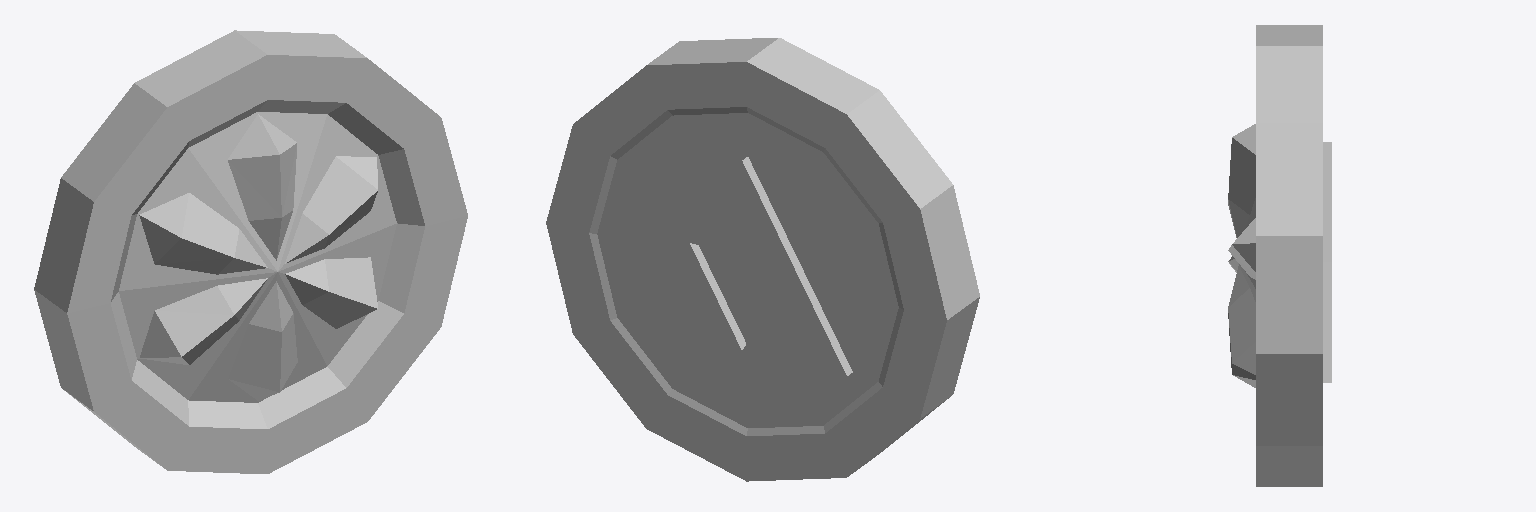
Rendered from Water Medallion.obj.
3 views of the same model, side by side, from view 1: azimuth 30°, elevation 25°; view 2: azimuth 150°, elevation 25°; view 3: azimuth 270°, elevation 25° (orthographic).
Parts seen in each view (by area): view 1: watermedal_geom-00D93EE2; view 2: watermedal_geom-00D93EE2; view 3: watermedal_geom-00D93EE2.
Boxes of the visible parts, x1=… form: watermedal_geom-00D93EE2: x1=34, y1=30, x2=467, y2=473; watermedal_geom-00D93EE2: x1=546, y1=38, x2=979, y2=481; watermedal_geom-00D93EE2: x1=1228, y1=25, x2=1331, y2=486.
Size of the model in its own units: 0.779 by 0.779 by 0.1745.